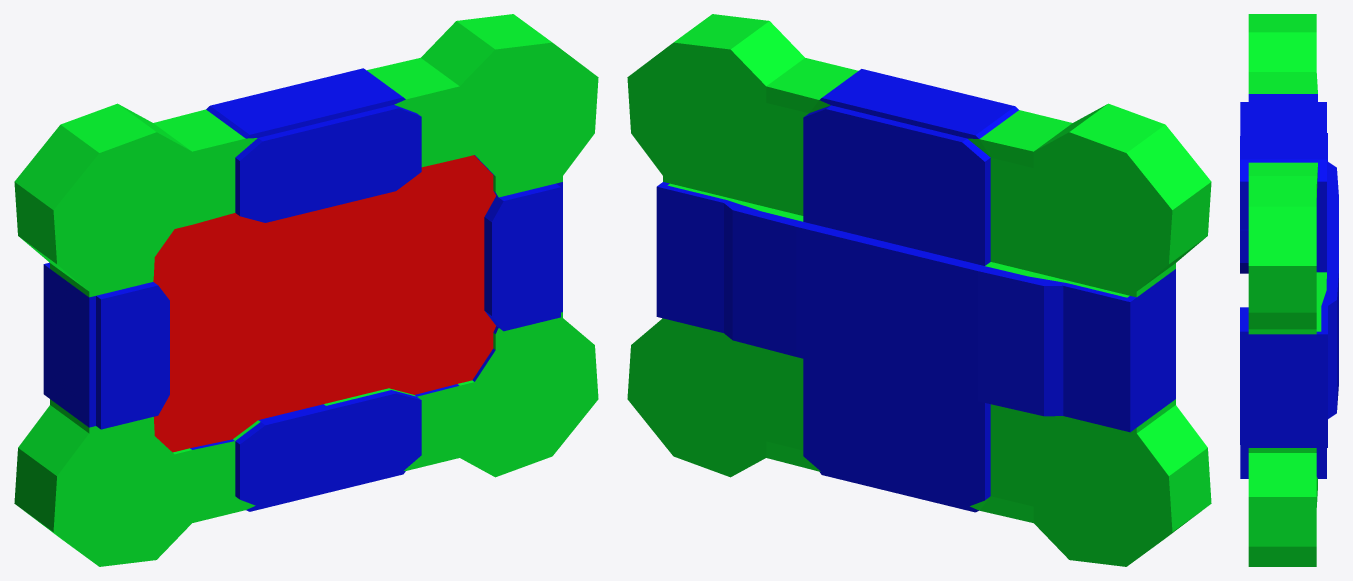
File: audioLog_low.fbx
3 renders of one model, left to right at view 1: azimuth 30°, elevation 25°; view 2: azimuth 150°, elevation 25°; view 3: azimuth 270°, elevation 25°, orthographic. The views are drawn at different scales.
Parts seen in each view (by area): view 1: audioLog_low; view 2: audioLog_low; view 3: audioLog_low.
Boxes of the visible parts, x1=… form: audioLog_low: x1=14, y1=14, x2=598, y2=566; audioLog_low: x1=627, y1=14, x2=1211, y2=566; audioLog_low: x1=1240, y1=14, x2=1338, y2=566.
Bounding box in the file's own units: 32.76 × 24.58 × 5.91.
